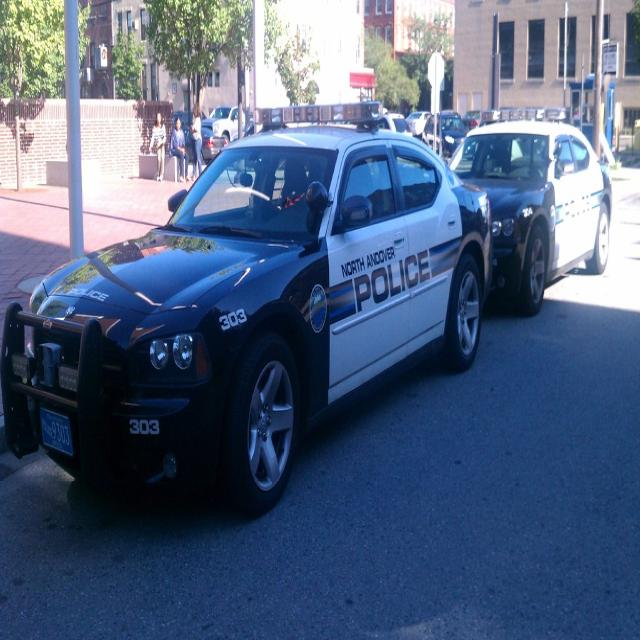car: (0, 96, 491, 519)
